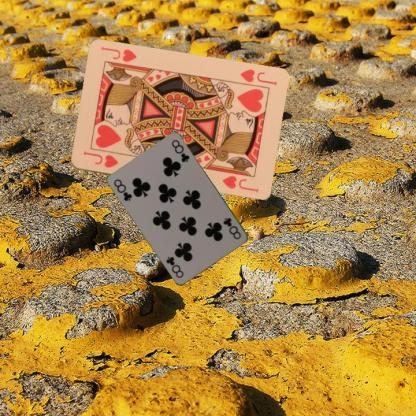8c: (112, 176, 134, 203), (220, 215, 242, 241)
Jh: (237, 66, 278, 88), (80, 148, 119, 170)
